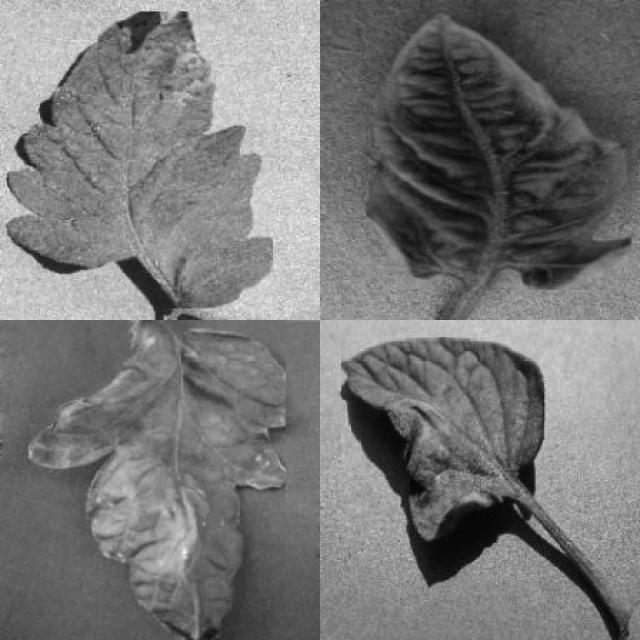Late Blight: (27, 320, 286, 640), (342, 337, 544, 543)
Septoria: (7, 12, 273, 308)
Yellow Leaf Curl Virus: (367, 13, 632, 290)
